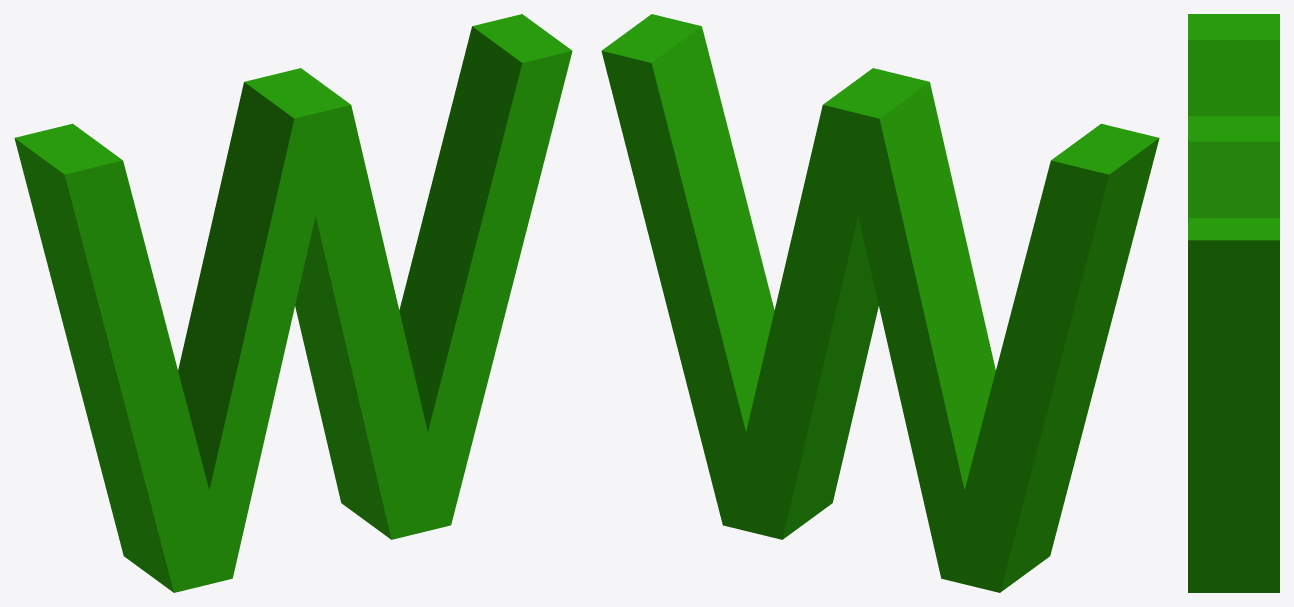
3 views of the same model, side by side, from view 1: azimuth 30°, elevation 25°; view 2: azimuth 150°, elevation 25°; view 3: azimuth 270°, elevation 25° (orthographic). The views are drawn at different scales.
Parts seen in each view (by area): view 1: typeMesh1; view 2: typeMesh1; view 3: typeMesh1.
Boxes of the visible parts, x1,y1,x2,y2 form: typeMesh1: (14,14,572,592); typeMesh1: (601,14,1159,592); typeMesh1: (1188,14,1279,592).
Bounding box in the file's own units: 72.88 × 61.02 × 12.5.
